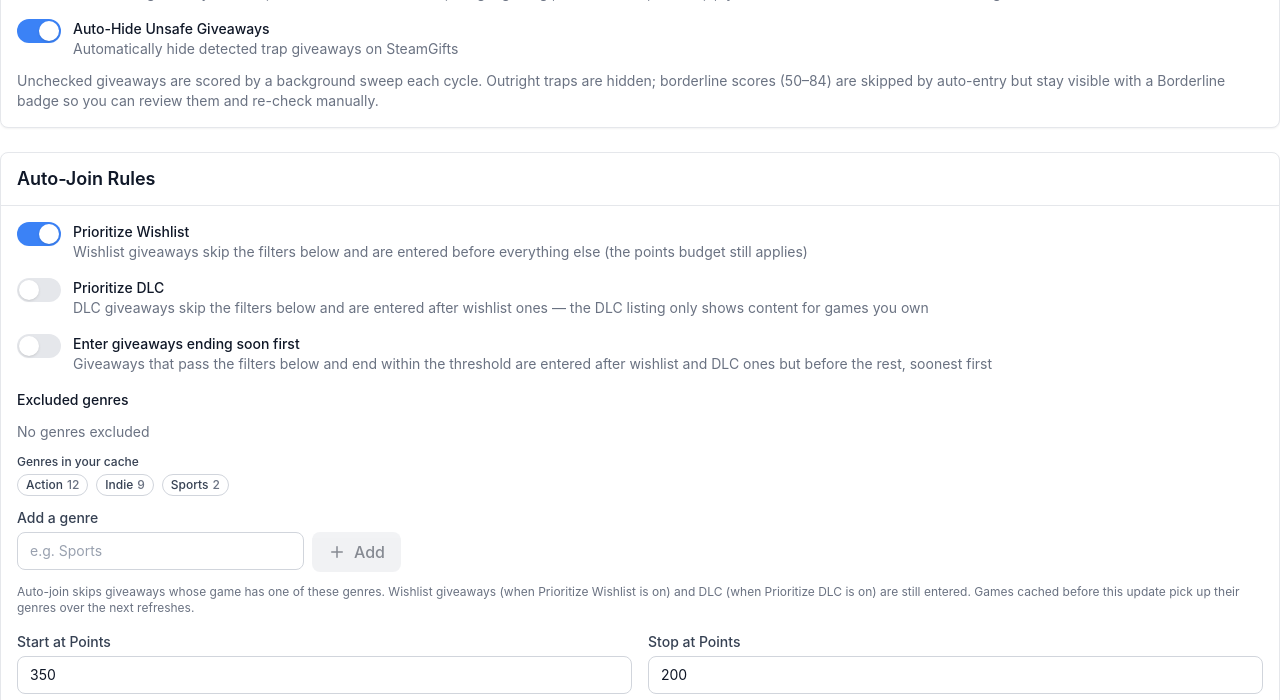
Scenario: Settings page: ending soon threshold typing and toggle-off rule › clearing the threshold shows the error and blocks saving instead of snapping back to 60
(page scrolled)
Click the switch named "Enter giveaways ending soon first" next to "Enter giveaways ending soon first": (39, 346) [17,334,61,358]
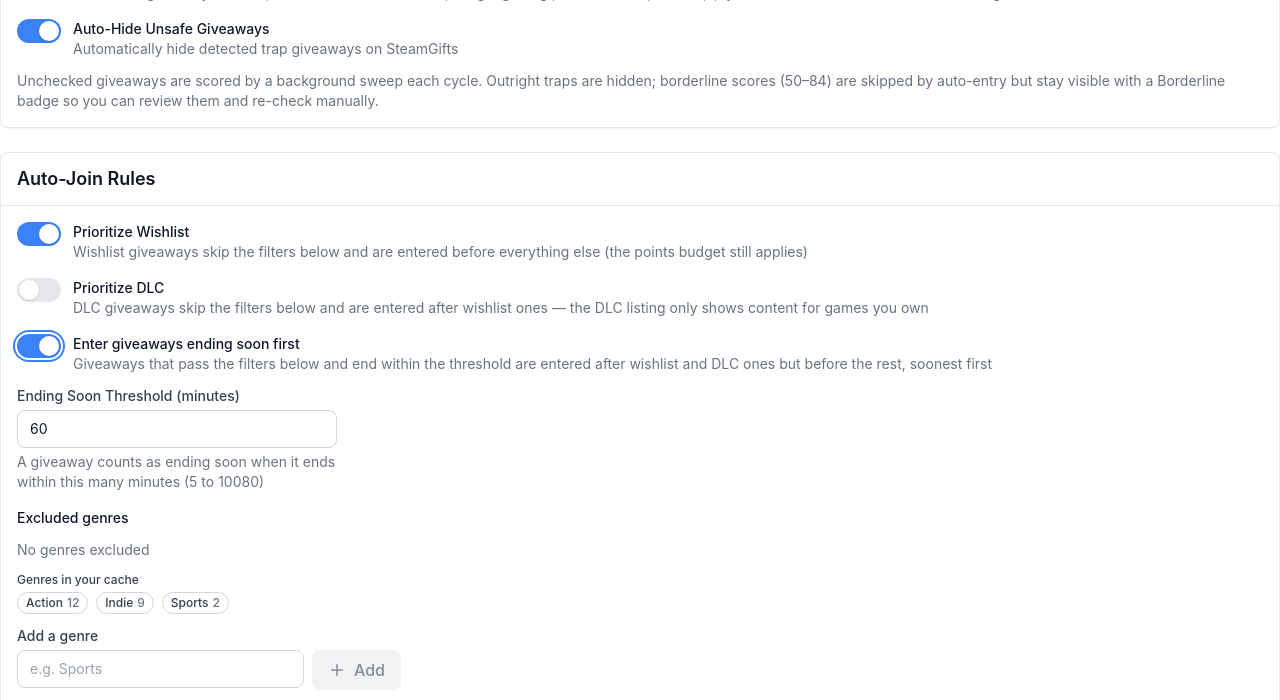
Clear the number field labelled "Ending Soon Threshold (minutes)": (177, 429) [17,410,337,448]
(page scrolled)
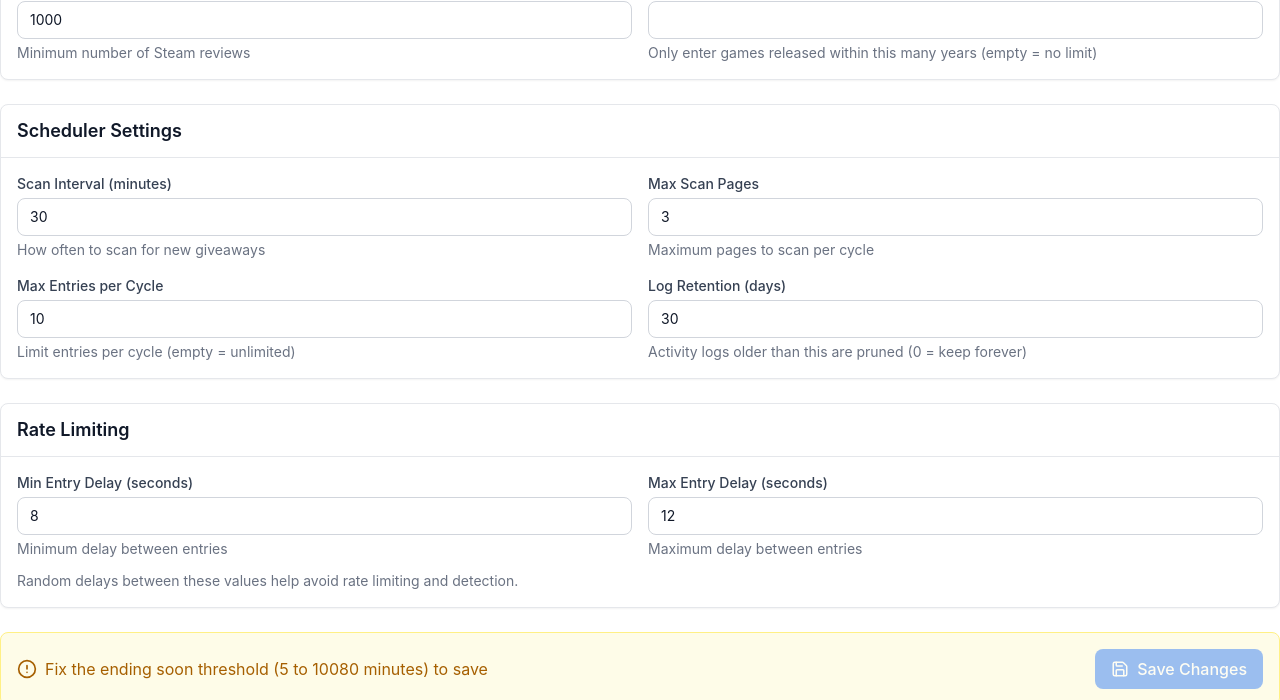
Result: the button "Save Changes" is disabled at [1095,649,1263,689]
